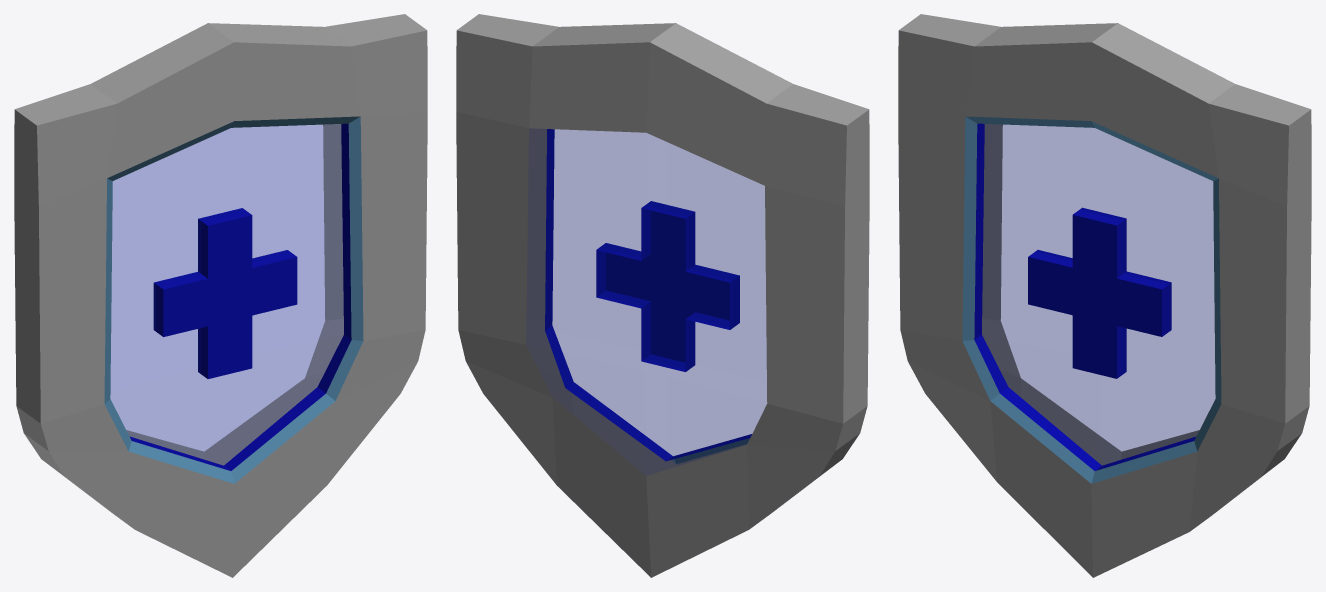
Rendered from Mascarasinha.fbx.
3 views of the same model, side by side, from view 1: azimuth 30°, elevation 25°; view 2: azimuth 150°, elevation 25°; view 3: azimuth 330°, elevation 25° (orthographic).
Visible parts, largest first — view 1: Escudo; view 2: Escudo; view 3: Escudo.
Boxes of the visible parts, x1,y1,x2,y2 form: Escudo: [14, 14, 427, 577]; Escudo: [456, 14, 869, 577]; Escudo: [898, 14, 1311, 577].
Size of the model in its own units: 159 by 208 by 21.25.
